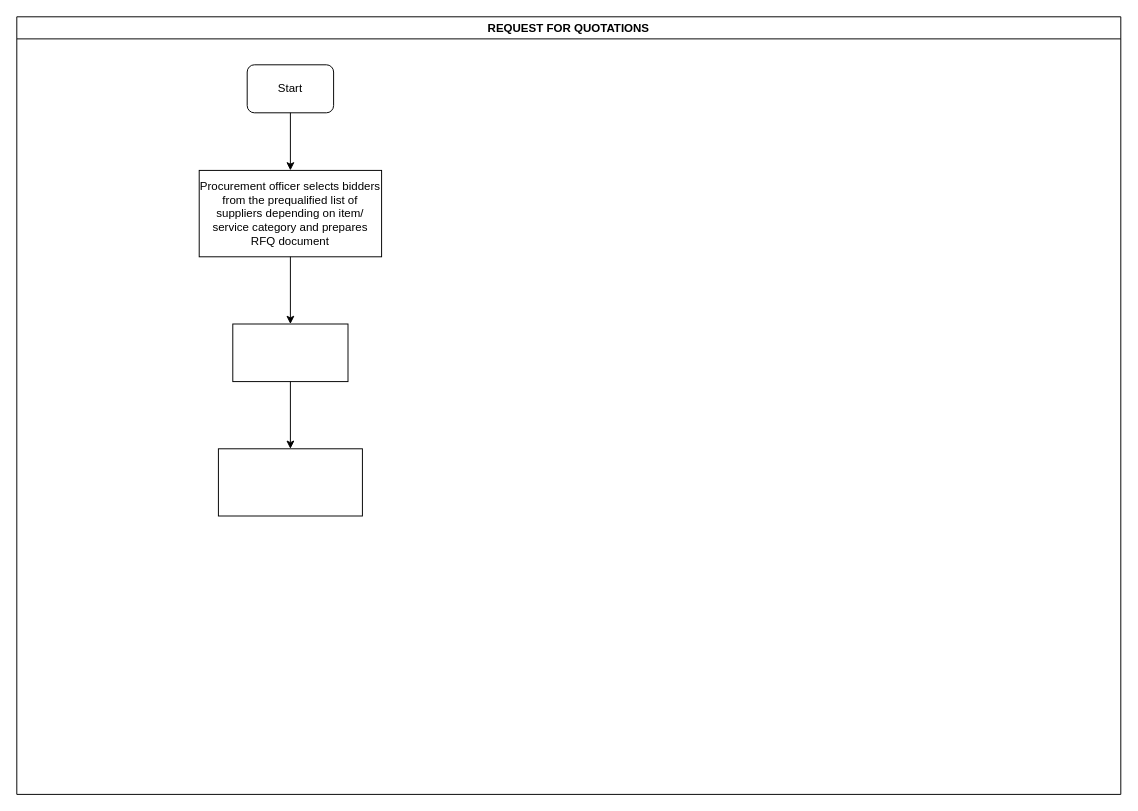
The diagram is 1138 pixels wide and 811 high, and some of its shapes have lost their labels. Here are the shapes that lost their labels. From the top down, the centre of each, then its label:
At pixel 290 352: "HoD procurement sends RFQ document to select suppliers".
At pixel 289 482: "HOD procurement receives quotations from suppliers until the deadline".
